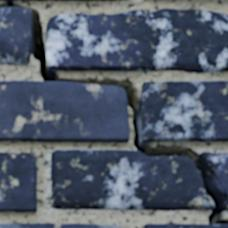brick: (46, 9, 227, 71), (0, 81, 128, 141), (142, 81, 227, 141), (0, 153, 36, 210), (0, 8, 30, 65), (0, 224, 120, 227), (145, 225, 227, 227)
broken_brick: (50, 148, 213, 210), (200, 151, 227, 190)
crack: (0, 0, 227, 225)
